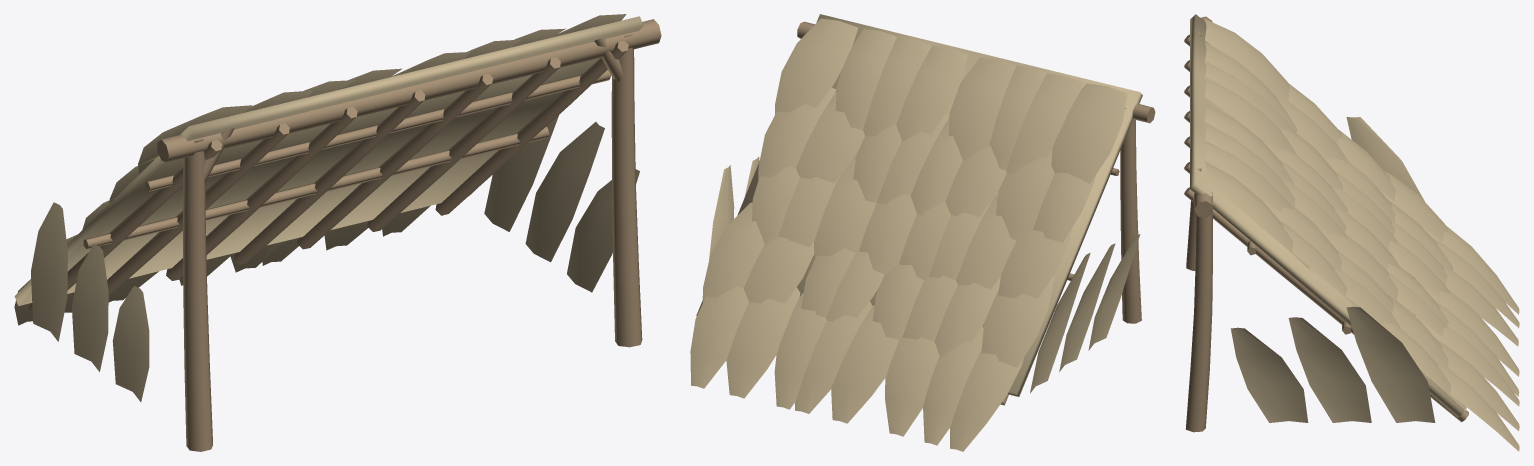
Rendered from BLD_LeanTo.fbx.
The picture shows the model from 3 angles, left to right: view 1: azimuth 30°, elevation 25°; view 2: azimuth 150°, elevation 25°; view 3: azimuth 270°, elevation 25°; orthographic projection. The views are drawn at different scales.
Visible parts, largest first — view 1: LeanTo_LOD0; view 2: LeanTo_LOD0; view 3: LeanTo_LOD0.
Boxes of the visible parts, x1,y1,x2,y2 form: LeanTo_LOD0: (14,14,661,451); LeanTo_LOD0: (690,14,1155,451); LeanTo_LOD0: (1184,14,1519,451).
Size of what is drawn, in the model's own units: 3.19 by 2.21 by 2.38.
